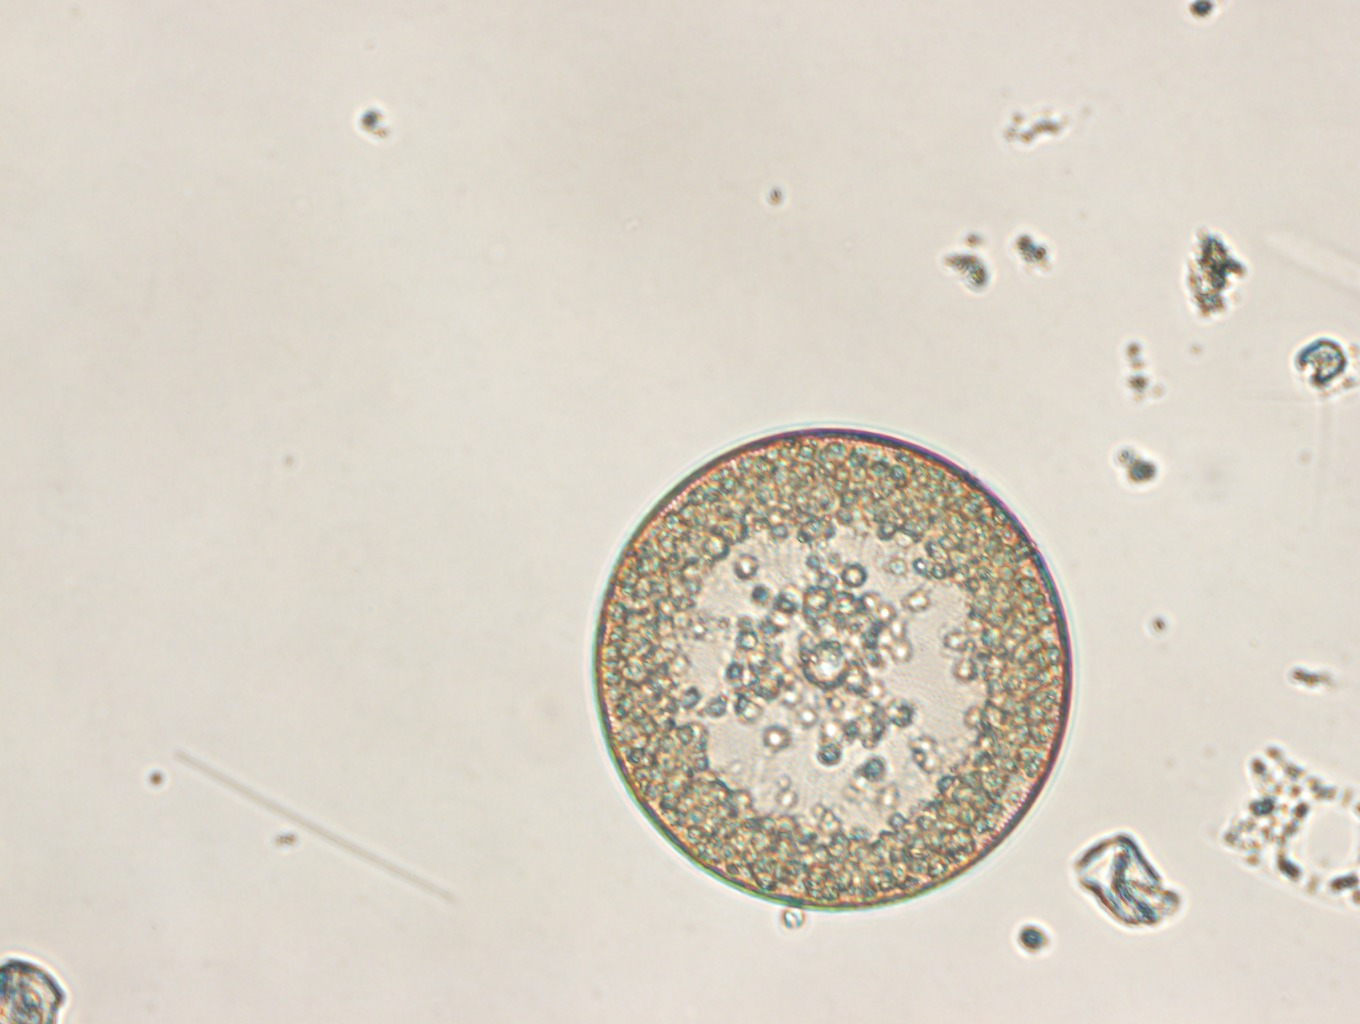coscinodiscus: (593, 425, 1073, 910)
